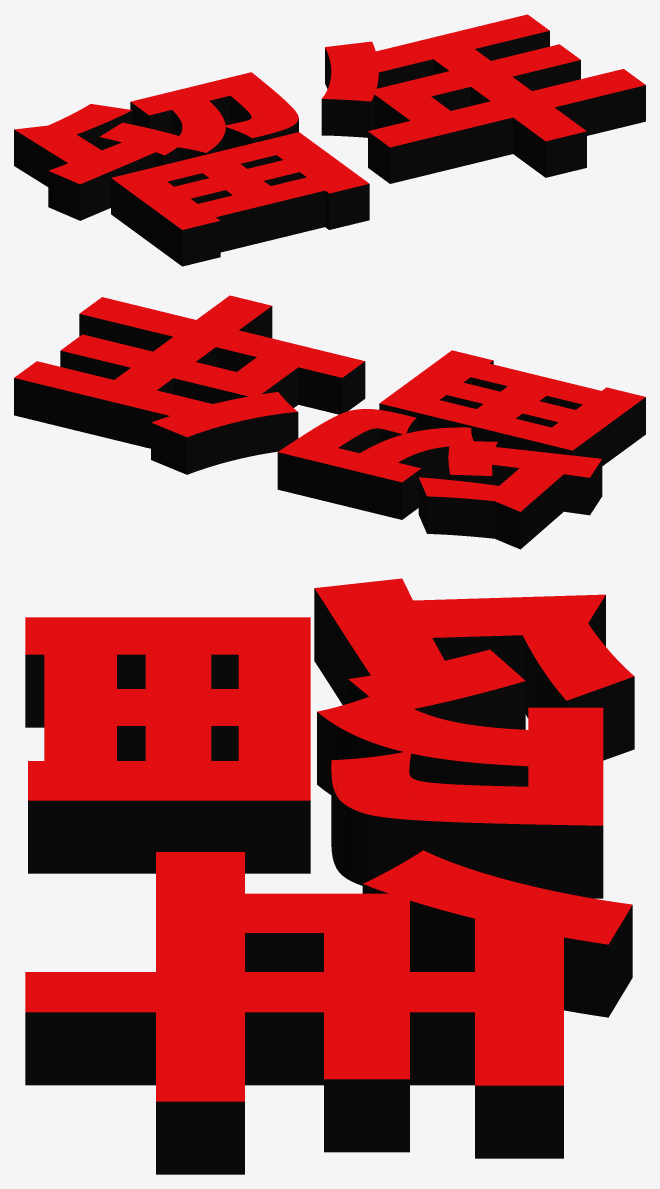
The model's file is Fail.fbx.
3 views of the same model, one above another, from view 1: azimuth 30°, elevation 25°; view 2: azimuth 150°, elevation 25°; view 3: azimuth 270°, elevation 25° (orthographic). The views are drawn at different scales.
Parts seen in each view (by area): view 1: Fail, Fail.side; view 2: Fail, Fail.side; view 3: Fail, Fail.side.
Boxes of the visible parts, <box> form: Fail: <box>14,14,645,229</box>; Fail.side: <box>14,30,645,266</box>; Fail: <box>14,295,645,511</box>; Fail.side: <box>14,306,645,549</box>; Fail: <box>25,578,634,1101</box>; Fail.side: <box>25,588,634,1174</box>.
Bounding box in the file's own units: 68.21 × 4.44 × 33.58.
